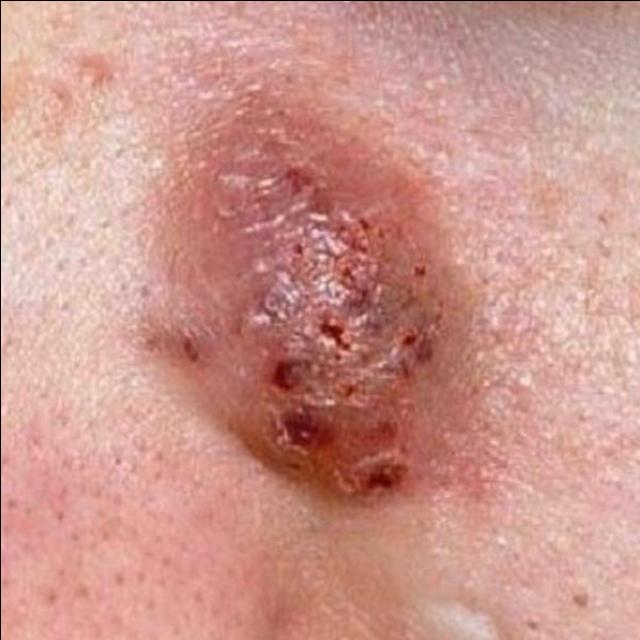nodule: (139, 74, 483, 550)
